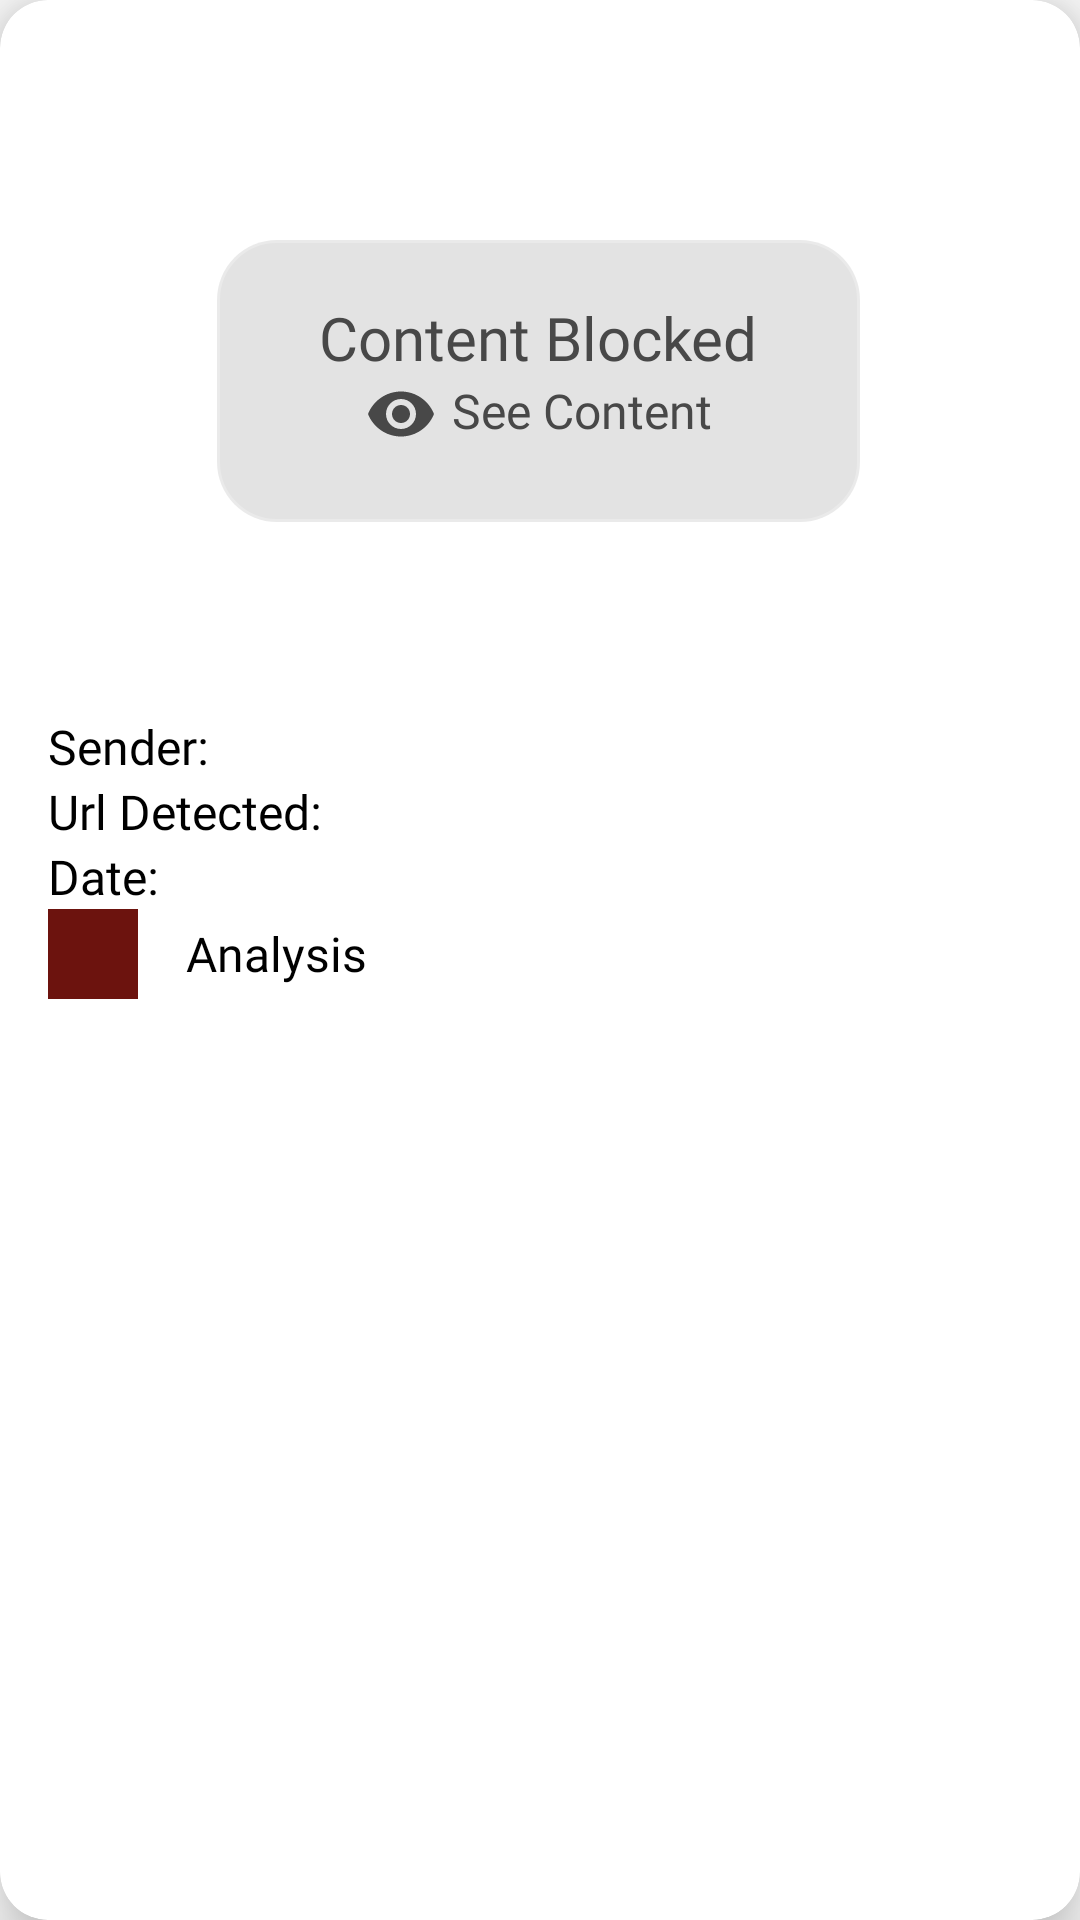

Named icons in this screenshot (1080×1920) and their bounding boxes, (x1, y1, x2, y2):
eye: (368, 391, 434, 437)
